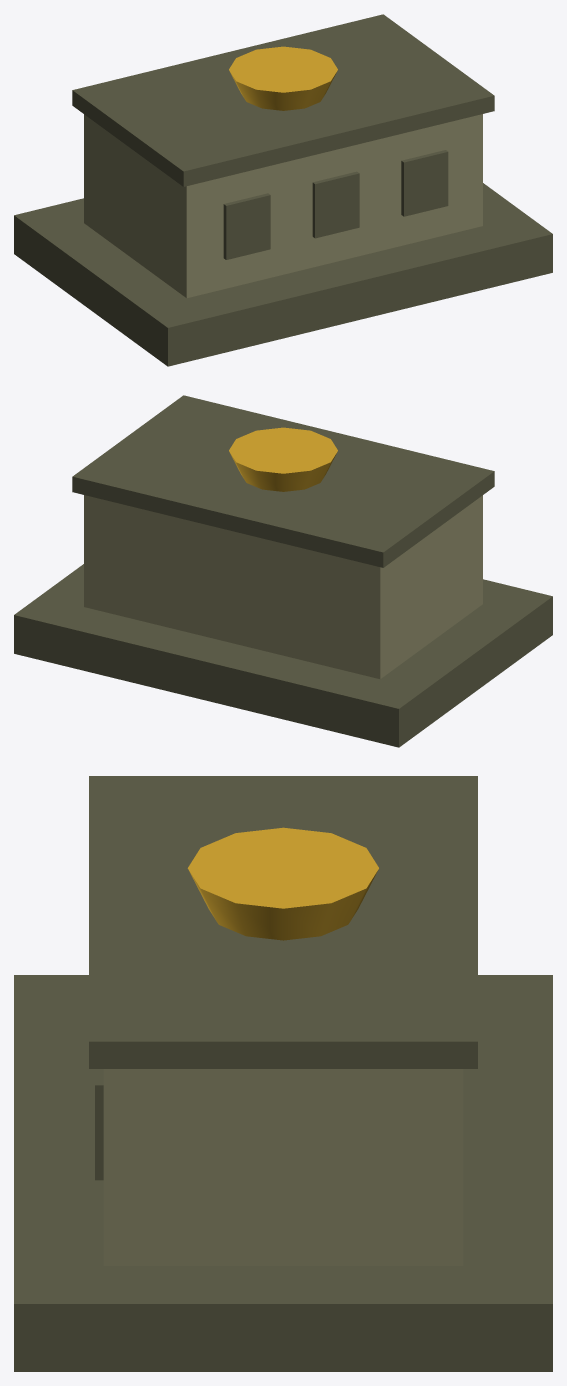
File: jg_altar_stone.glb
3 renders of one model, top to bottom at view 1: azimuth 30°, elevation 25°; view 2: azimuth 150°, elevation 25°; view 3: azimuth 270°, elevation 25°, orthographic. The views are drawn at different scales.
Parts seen in each view (by area): view 1: jg_altar_stone; view 2: jg_altar_stone; view 3: jg_altar_stone.
Boxes of the visible parts, <box> form: jg_altar_stone: <box>14,14,552,366</box>; jg_altar_stone: <box>14,395,552,747</box>; jg_altar_stone: <box>14,776,552,1371</box>.
Bounding box in the file's own units: 2.6 × 1.25 × 1.8.
